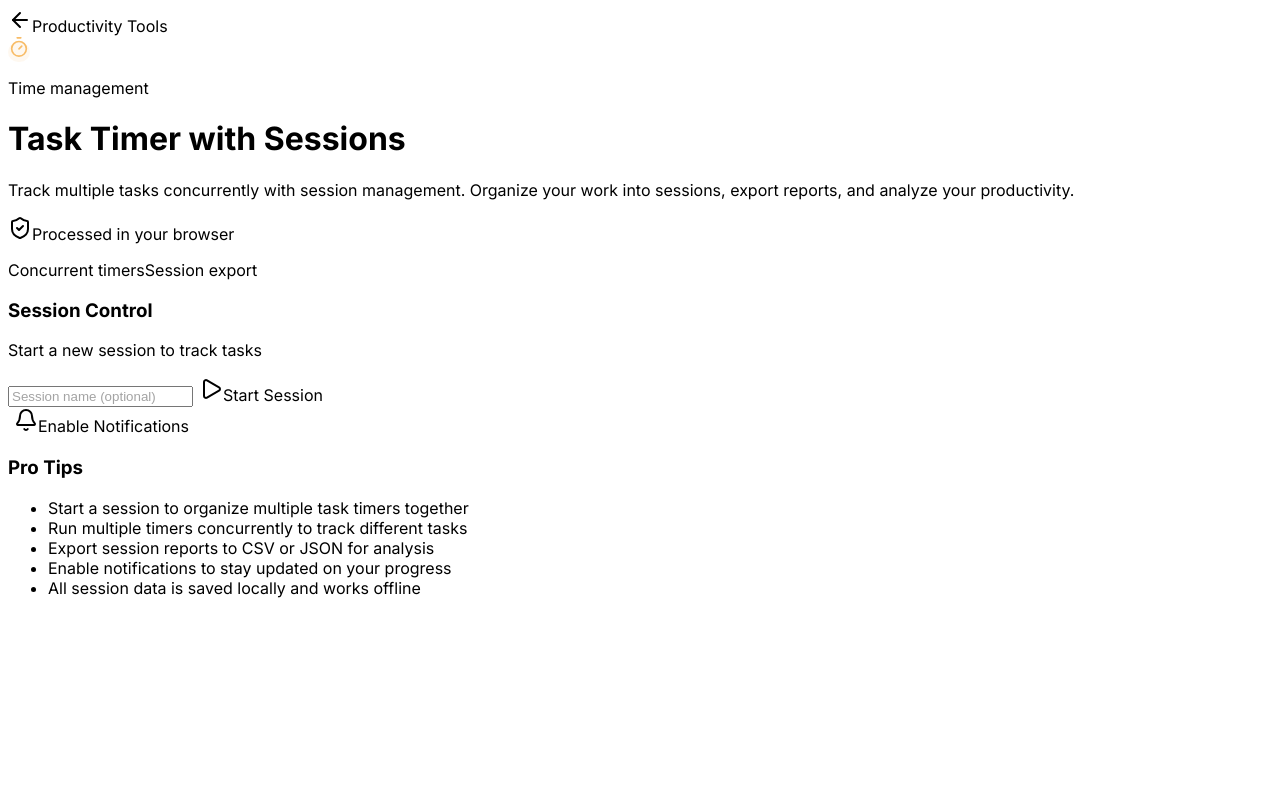
it: Task Timer Page - Component Tests › should display active timers section when timers exist
// Start session
Click the button "Start Session" at (261, 391), box left=193, top=376, right=329, bottom=406
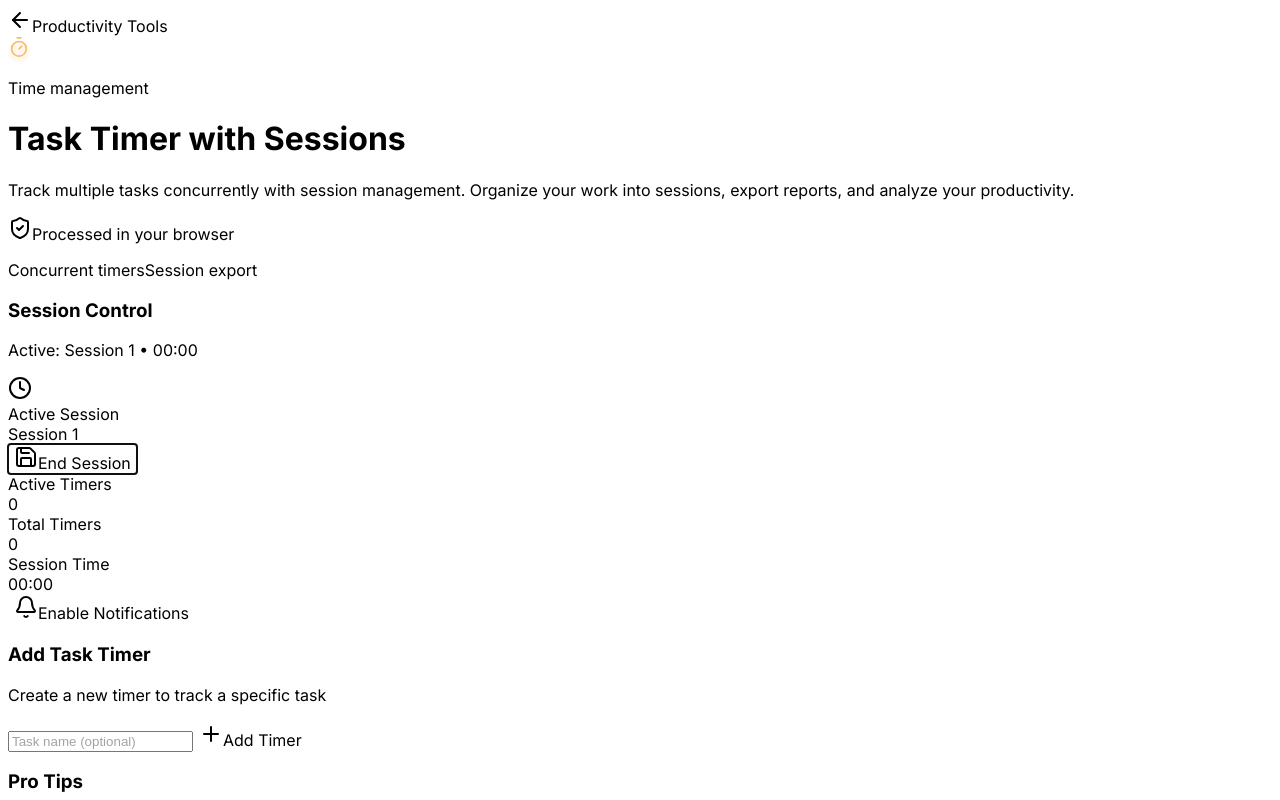
Check: the button "Add Timer" is shown
// Add timer
Click the button "Add Timer" at (250, 736), box left=193, top=721, right=308, bottom=751
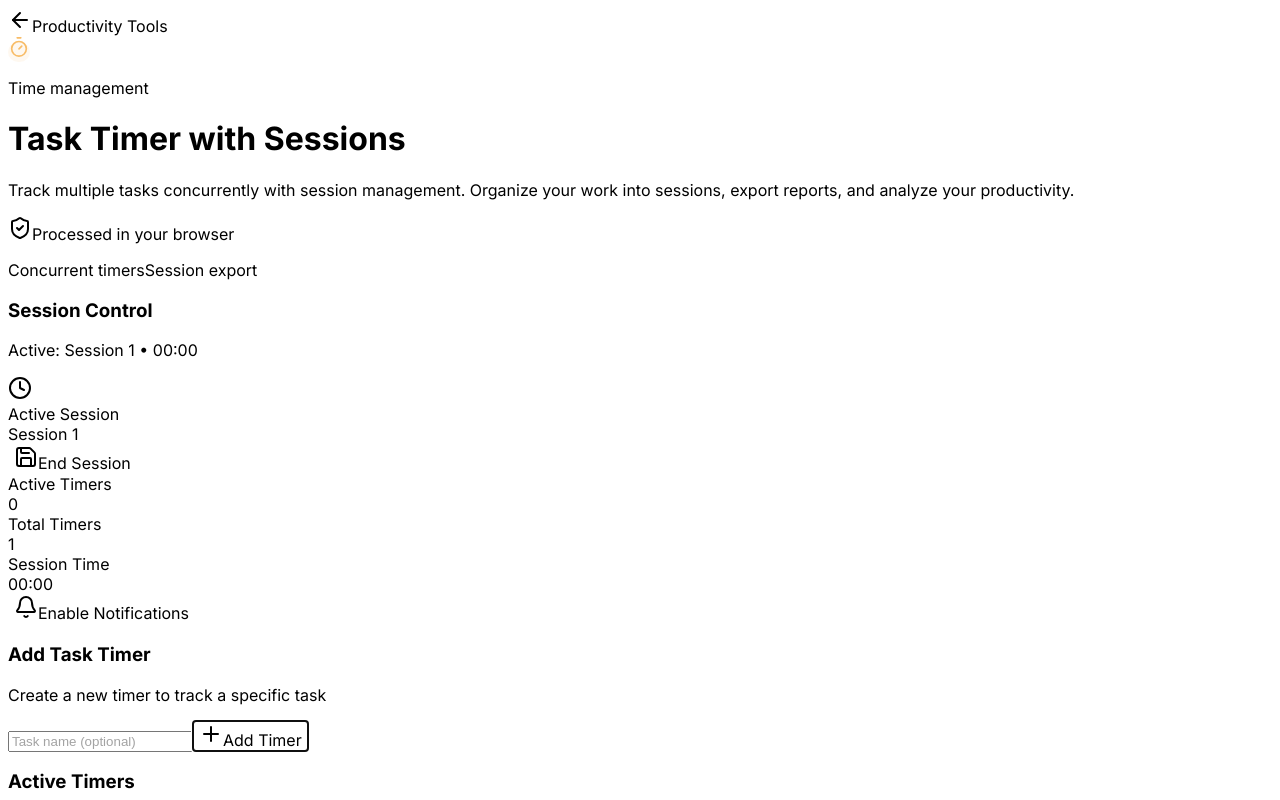
Check: the heading "Active Timers" is shown, box left=8, top=770, right=135, bottom=794
